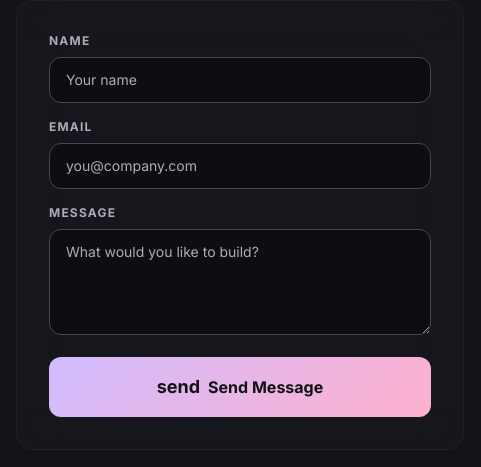
Test case: Contact › disables the submit button while sending
This screenshot has width=481, height=467.
In the field labelled "Name": (240, 80) [49, 57, 431, 103], type "Jane Smith"
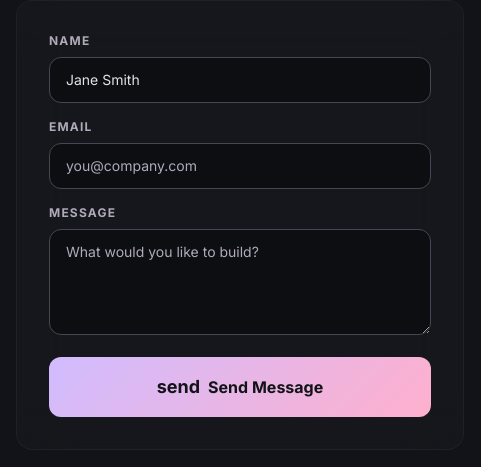
In the field labelled "Email": (240, 166) [49, 143, 431, 189], type "jane@company.com"
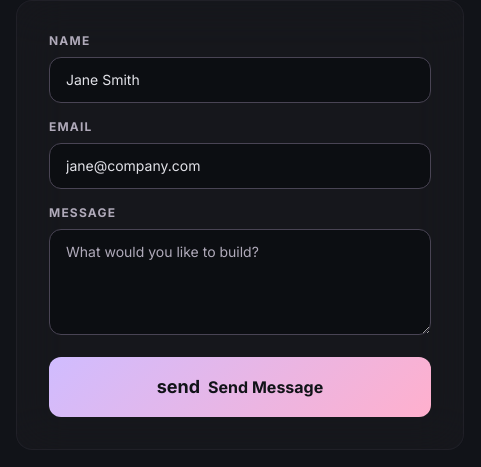
In the text box labelled "Message": (240, 282) [49, 229, 431, 335], type "Let's build something."
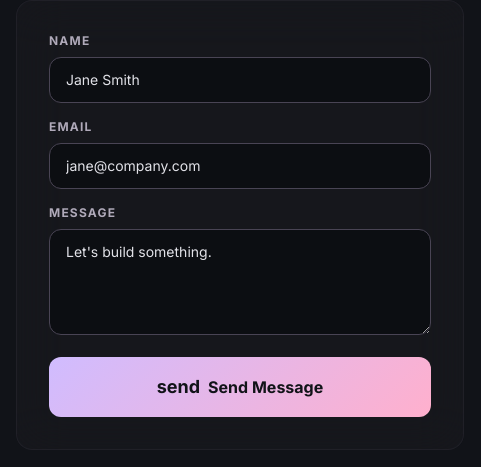
Click the button "send Send Message": (240, 387) [49, 357, 431, 417]
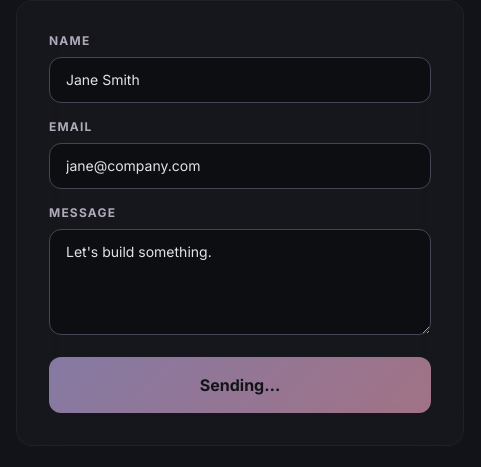
Now the button is disabled, box [49, 357, 431, 413]
